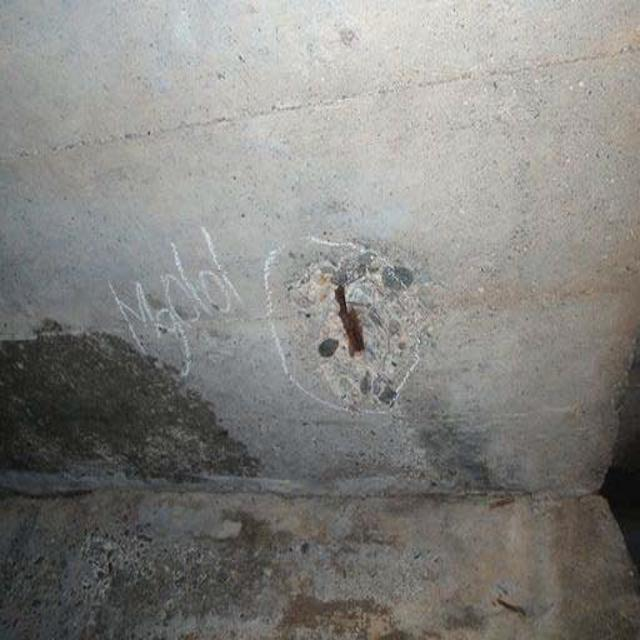spalling: (283, 230, 440, 433)
